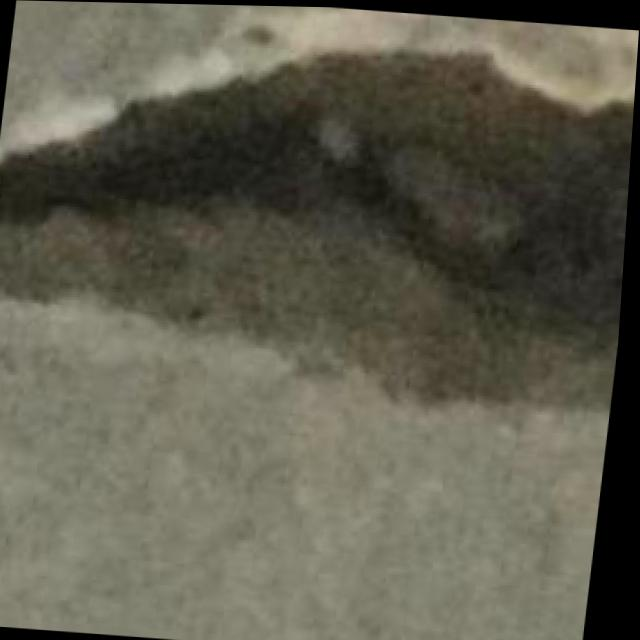Crack: (0, 9, 640, 318)
